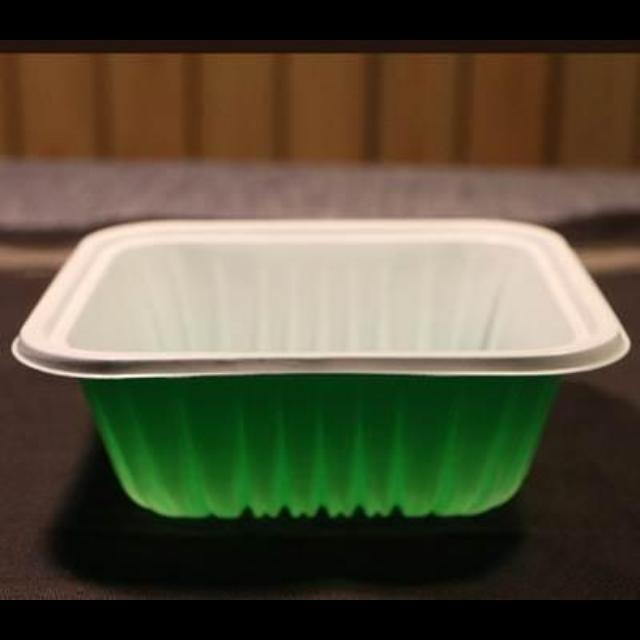plastic_box: (4, 200, 632, 522)
